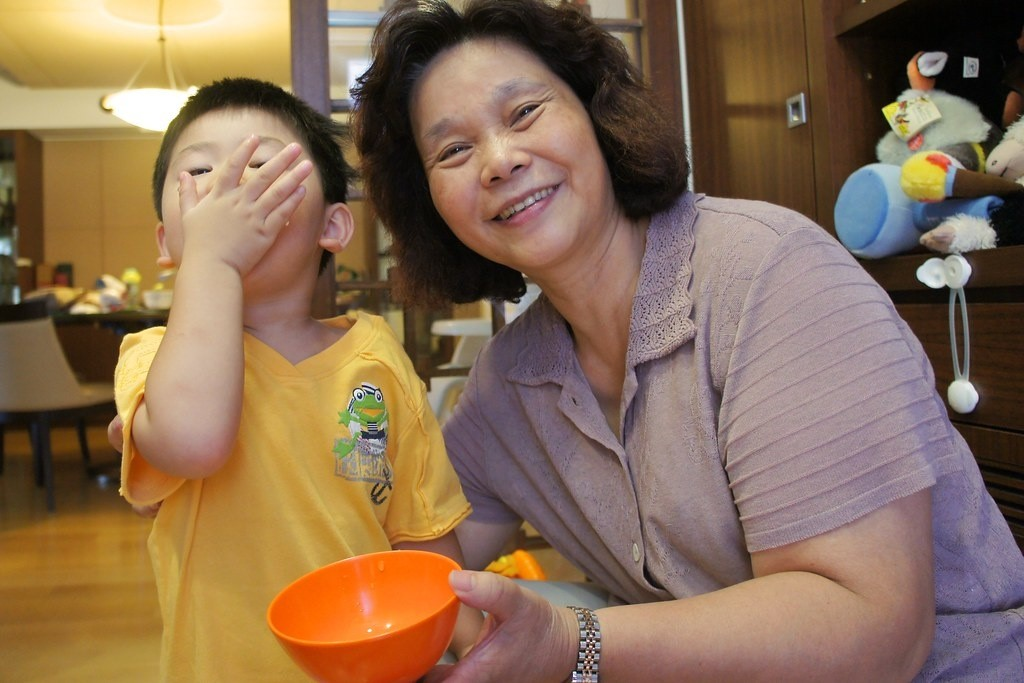face_no_mask: (396, 18, 638, 280), (151, 82, 351, 295)
